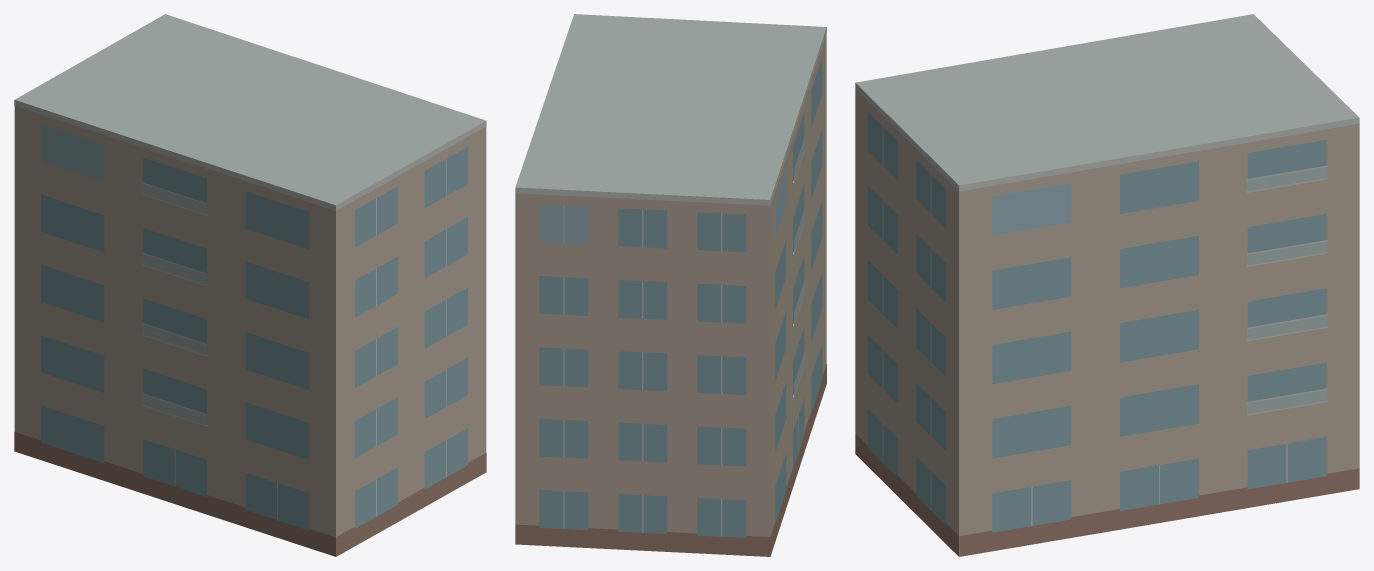
The model's file is survey-upis-32862682.glb.
3 views of the same model, side by side, from view 1: azimuth 30°, elevation 25°; view 2: azimuth 150°, elevation 25°; view 3: azimuth 270°, elevation 25° (orthographic). The views are drawn at different scales.
Parts seen in each view (by area): view 1: survey-upis-32862682.tmp; view 2: survey-upis-32862682.tmp; view 3: survey-upis-32862682.tmp.
Boxes of the visible parts, <box> form: survey-upis-32862682.tmp: <box>14,14,486,556</box>; survey-upis-32862682.tmp: <box>515,14,826,556</box>; survey-upis-32862682.tmp: <box>855,14,1359,556</box>.
Size of the model in its own units: 14.86 by 15 by 18.47.
